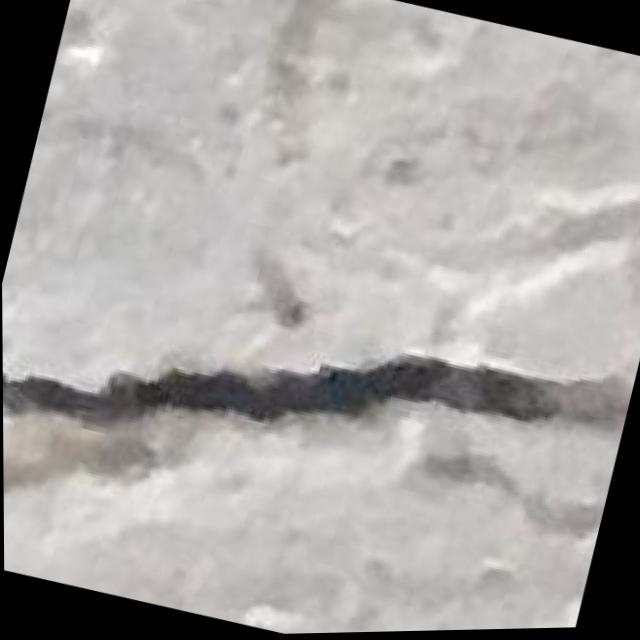Crack: (1, 209, 601, 580)
